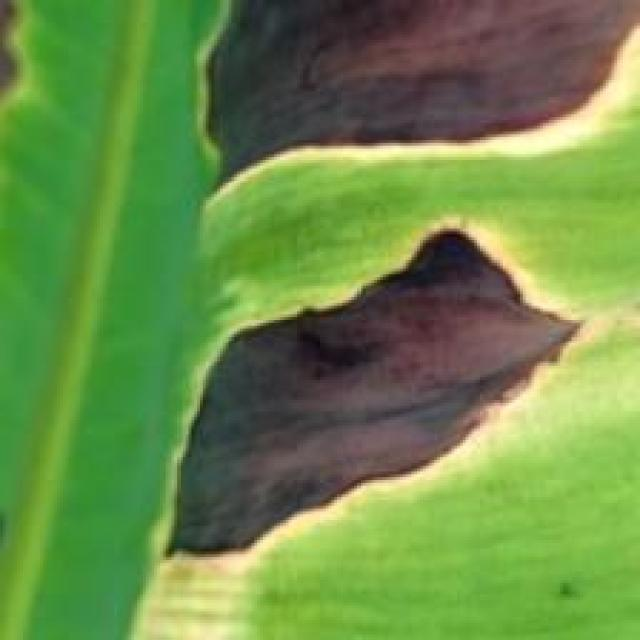Bacterial_spot: (135, 201, 605, 583), (193, 0, 640, 215)
